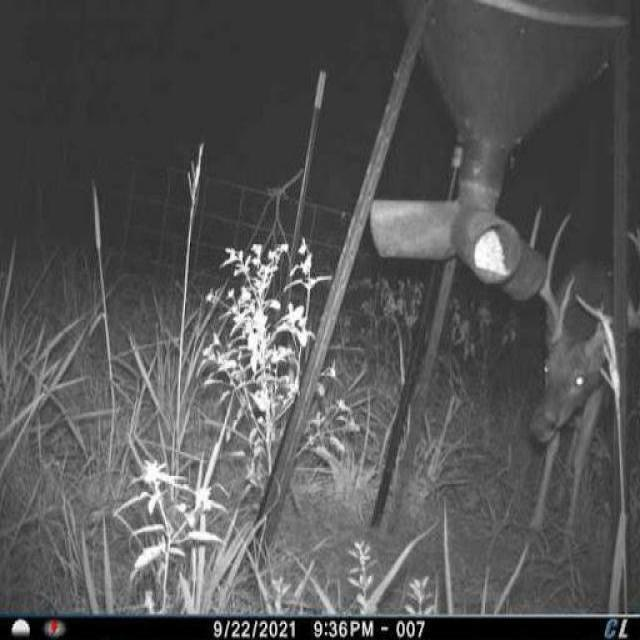deer: (515, 197, 640, 544)
